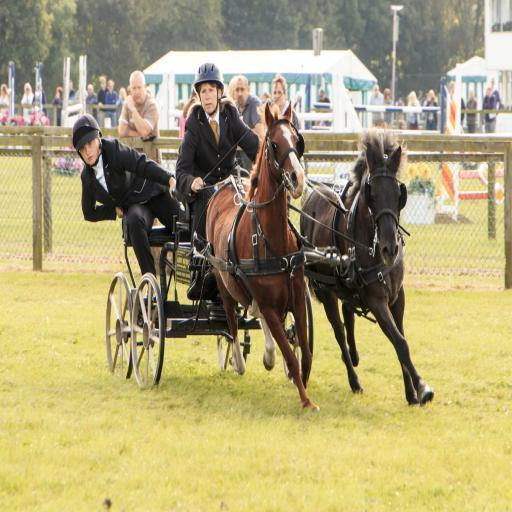horse: (298, 126, 436, 406), (204, 100, 322, 416)
